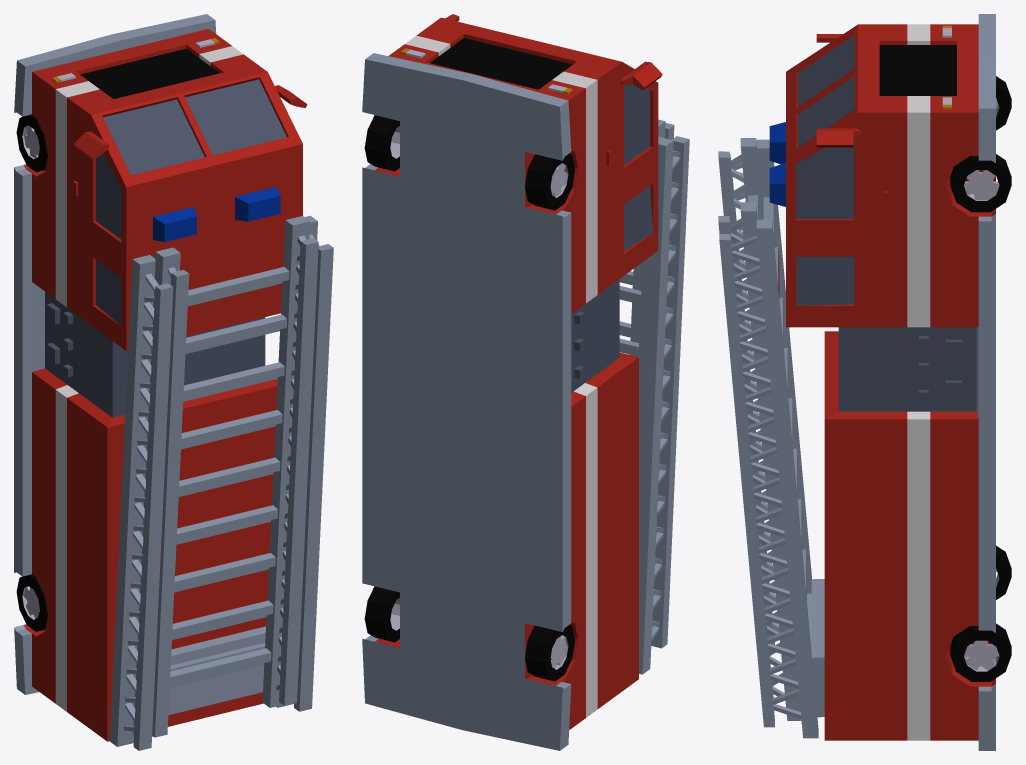
Rendered from Firetruck.glb.
3 renders of one model, left to right at view 1: azimuth 30°, elevation 25°; view 2: azimuth 150°, elevation 25°; view 3: azimuth 270°, elevation 25°, orthographic. The views are drawn at different scales.
Parts seen in each view (by area): view 1: Mesh_0; view 2: Mesh_0; view 3: Mesh_0.
Boxes of the visible parts, x1,y1,x2,y2 form: Mesh_0: [14, 14, 333, 750]; Mesh_0: [362, 14, 689, 750]; Mesh_0: [718, 14, 1011, 750].
Bounding box in the file's own units: 3.41 × 9.6 × 3.93.
